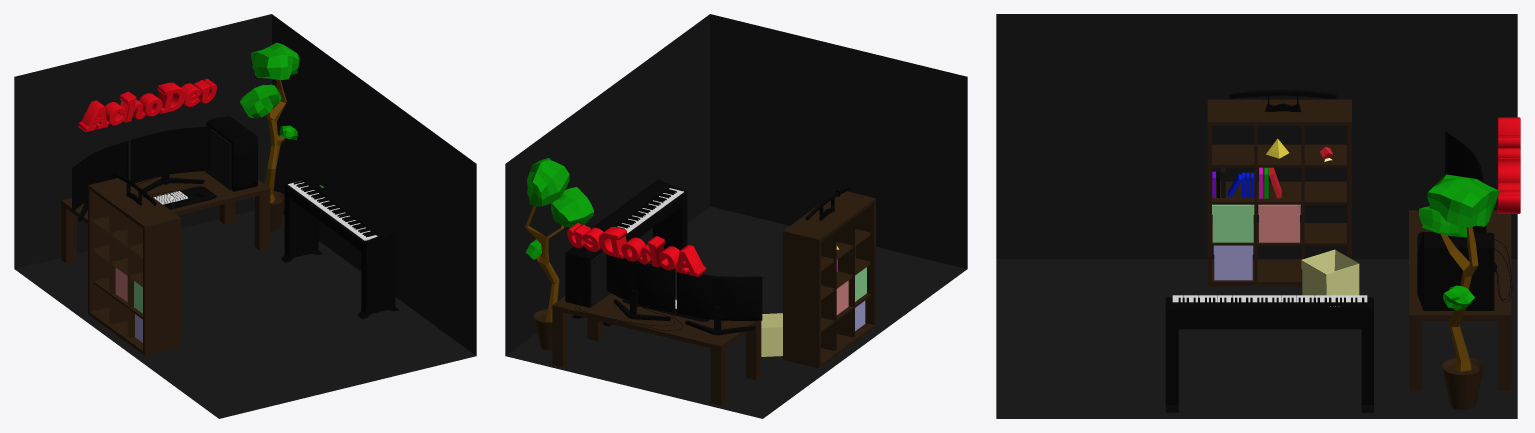
File: room.glb
The picture shows the model from 3 angles, left to right: view 1: azimuth 30°, elevation 25°; view 2: azimuth 150°, elevation 25°; view 3: azimuth 270°, elevation 25°; orthographic projection. The views are drawn at different scales.
Visible parts, largest first — view 1: room, Cube.002, body, table, main monitor, achodev logo, second monitor, computer, Cube.005, Cube.003, computer.001, Cube.004 (+2 smaller); view 2: room, Cube.002, table, second monitor, achodev logo, main monitor, body, Cube.005, computer, Cube.004, Cube.003, Cube.015 (+2 smaller); view 3: room, Cube.002, body, table, computer, Cube.005, Cube.015, achodev logo, Cube.003, Cube.014, Cube.013, Cylinder (+5 smaller).
Boxes of the visible parts, x1,y1,x2,y2 form: room: (14, 14, 476, 418); Cube.002: (88, 176, 180, 355); body: (281, 172, 398, 318); table: (61, 171, 270, 263); main monitor: (130, 126, 210, 191); achodev logo: (78, 78, 216, 132); second monitor: (72, 141, 128, 221); computer: (206, 116, 257, 191); Cube.005: (250, 42, 299, 80); Cube.003: (264, 79, 286, 202); computer.001: (205, 125, 231, 190); Cube.004: (240, 84, 281, 118); room: (505, 14, 967, 418); Cube.002: (783, 189, 875, 368); table: (552, 293, 761, 405); second monitor: (677, 272, 762, 335); achodev logo: (567, 223, 706, 277); main monitor: (606, 254, 675, 321); body: (572, 179, 687, 326); Cube.005: (526, 158, 569, 206); computer: (565, 246, 602, 307); Cube.004: (551, 187, 593, 227); Cube.003: (525, 206, 564, 321); Cube.015: (761, 313, 782, 356); room: (996, 14, 1517, 418); Cube.002: (1207, 99, 1351, 286); body: (1165, 297, 1373, 412); table: (1409, 210, 1511, 390); computer: (1417, 232, 1494, 310); Cube.005: (1427, 174, 1499, 227); Cube.015: (1301, 249, 1359, 297); achodev logo: (1497, 117, 1520, 213); Cube.003: (1440, 227, 1478, 371); Cube.014: (1212, 204, 1254, 242); Cube.013: (1258, 204, 1300, 242); Cylinder: (1442, 358, 1483, 409).
Bounding box in the file's own units: 7.02 × 5.01 × 9.69.
